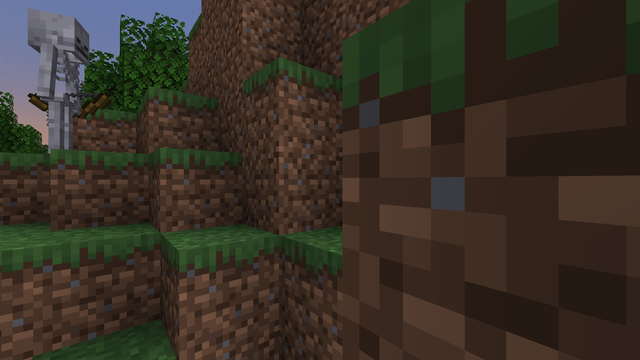squelettes: (26, 4, 87, 155)
